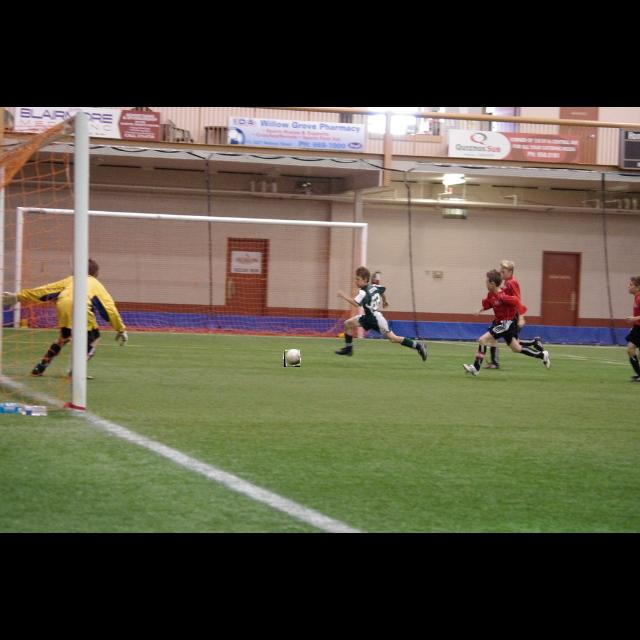Football: (284, 349, 300, 367)
